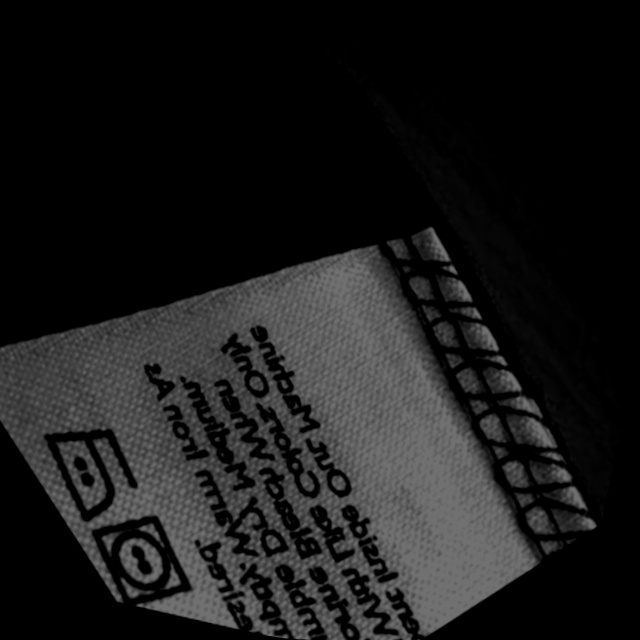iron_medium: (12, 401, 158, 539)
tumble_dry_medium: (66, 492, 214, 625)
